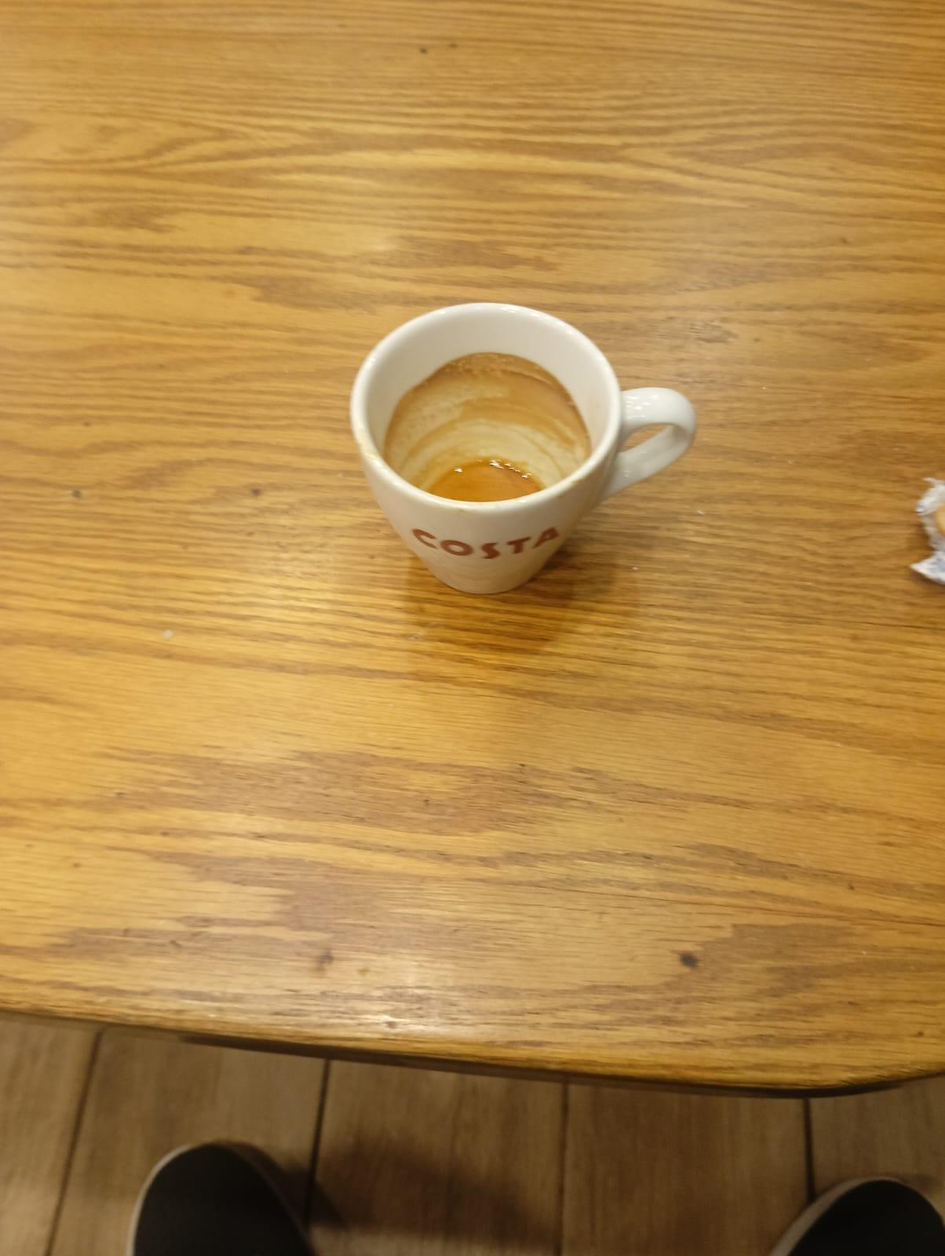cup: (351, 303, 695, 593)
